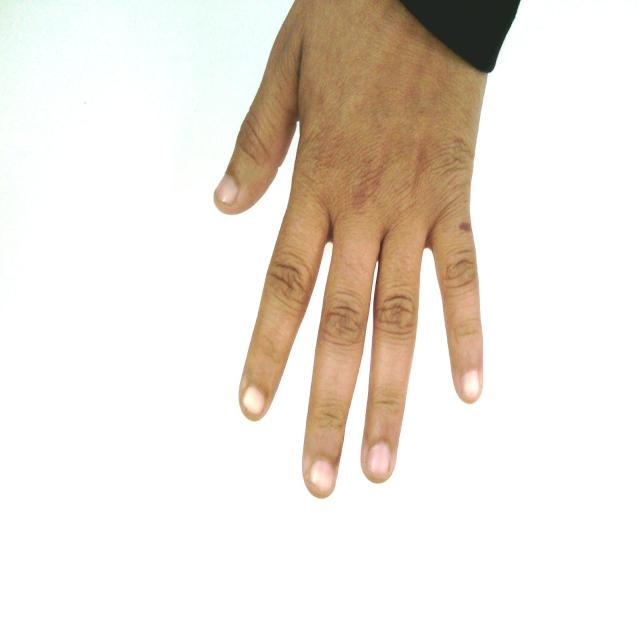Fingernail: (366, 442, 390, 476), (310, 460, 333, 490), (242, 386, 265, 415), (216, 174, 238, 204), (461, 370, 479, 399)
